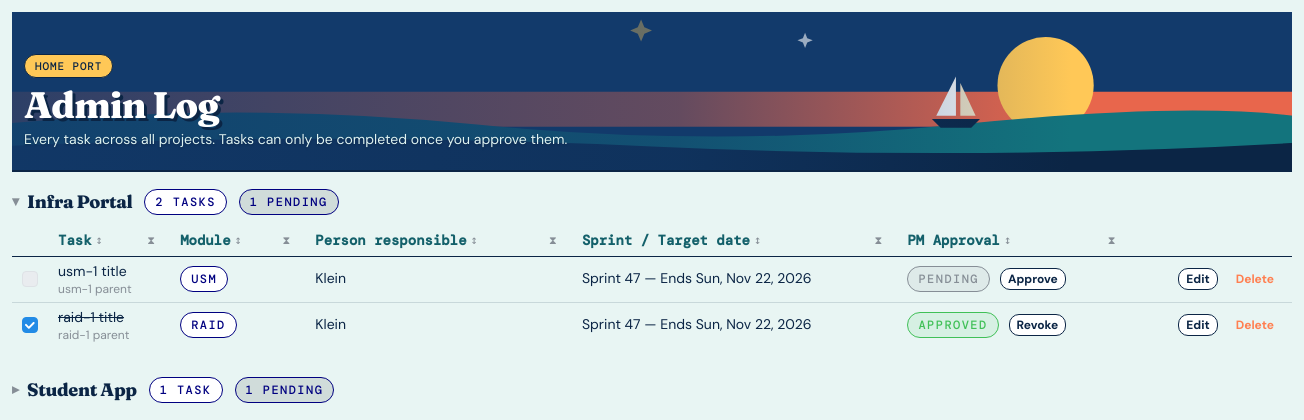
Test: Admin Log page › lists every task grouped by project with a PM Approval column
Expected: the element with test id "admin-log-project" shows "2 tasks", x1=12 y1=188 x2=1292 y2=360
Expected: the number of rows with test id "admin-log-row" is 2, x1=12 y1=256 x2=1292 y2=302; x1=12 y1=302 x2=1292 y2=348
Click the button "▸ Student App 1 task 1 pending": click(82, 389) x1=12 y1=376 x2=1292 y2=404
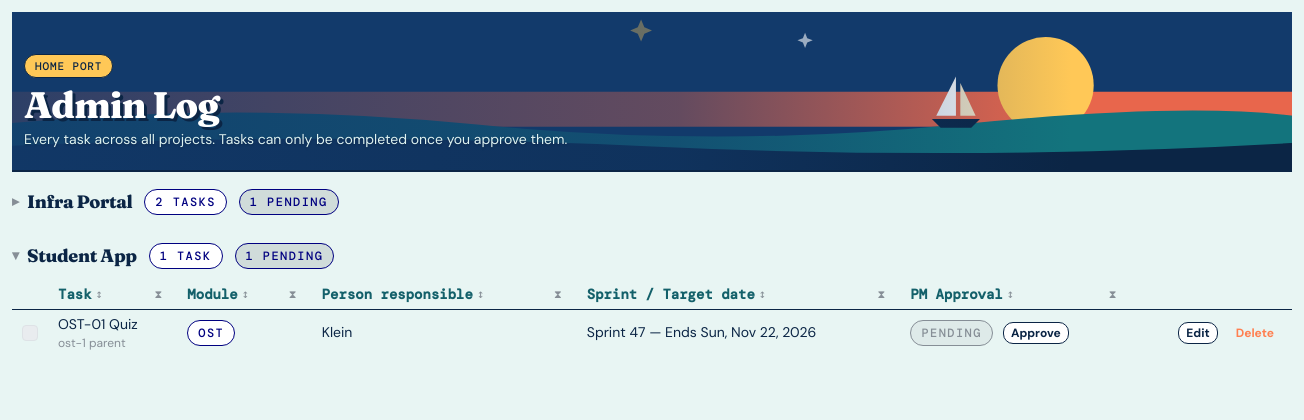
Result: the button "▾ Student App 1 task 1 pending" is expanded at x1=12 y1=242 x2=1292 y2=270
Result: the element with test id "admin-log-project" shows "OST" at x1=198 y1=325 x2=224 y2=341
